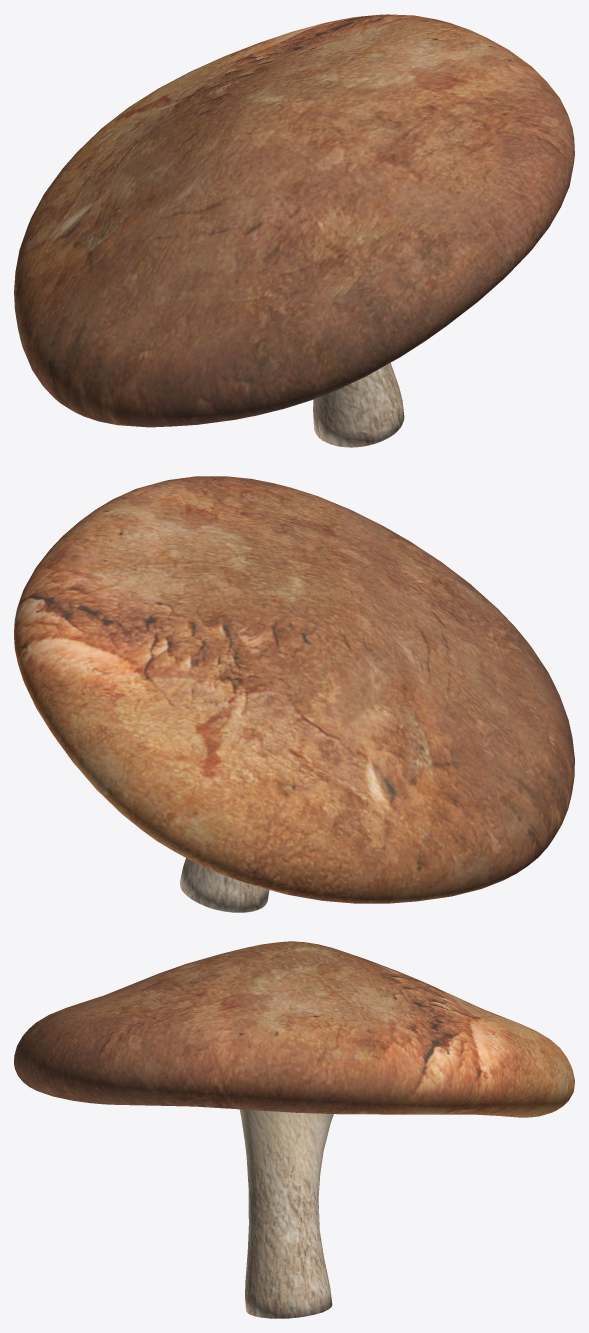
Rendered from MushroomShiitake.obj.
3 renders of one model, top to bottom at view 1: azimuth 30°, elevation 25°; view 2: azimuth 150°, elevation 25°; view 3: azimuth 270°, elevation 25°, orthographic. The views are drawn at different scales.
Visible parts, largest first — view 1: MushroomShiitake; view 2: MushroomShiitake; view 3: MushroomShiitake.
Part boxes in pixels (x1,y1,x2,y2): MushroomShiitake: [14, 14, 574, 447]; MushroomShiitake: [14, 476, 574, 912]; MushroomShiitake: [14, 941, 574, 1318].
Size of the model in its own units: 5.07 by 3.69 by 5.47.
Materials: 1 (1 with a texture image).
